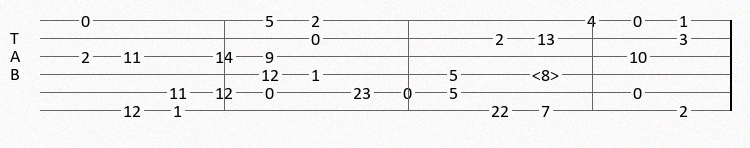0: (81, 13, 94, 28), (265, 85, 278, 100), (311, 31, 324, 46), (403, 85, 416, 100), (633, 13, 646, 28), (633, 85, 646, 100)
1: (173, 103, 186, 118), (311, 67, 324, 82), (679, 13, 692, 28)
10: (629, 49, 651, 64)
11: (123, 49, 145, 64), (169, 85, 191, 100)
12: (123, 103, 145, 118), (215, 85, 237, 100), (261, 67, 283, 82)
13: (537, 31, 559, 46)
14: (215, 49, 237, 64)
2: (81, 49, 94, 64), (311, 13, 324, 28), (495, 31, 508, 46), (679, 103, 692, 118)
22: (491, 103, 513, 118)
23: (353, 85, 375, 100)
3: (679, 31, 692, 46)
4: (587, 13, 600, 28)
5: (265, 13, 278, 28), (449, 67, 462, 82), (449, 85, 462, 100)
7: (541, 103, 554, 118)
9: (265, 49, 278, 64)
harmonic: (532, 67, 563, 82)
